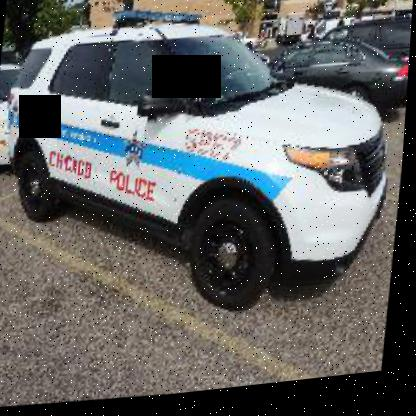emergency: (0, 0, 409, 345)
